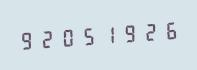five: (77, 21, 96, 50)
nine: (17, 25, 36, 54), (117, 18, 136, 47)
one: (97, 20, 116, 48)
six: (157, 15, 176, 44)
two: (37, 24, 56, 52), (137, 17, 156, 45)
zero: (57, 22, 76, 51)
